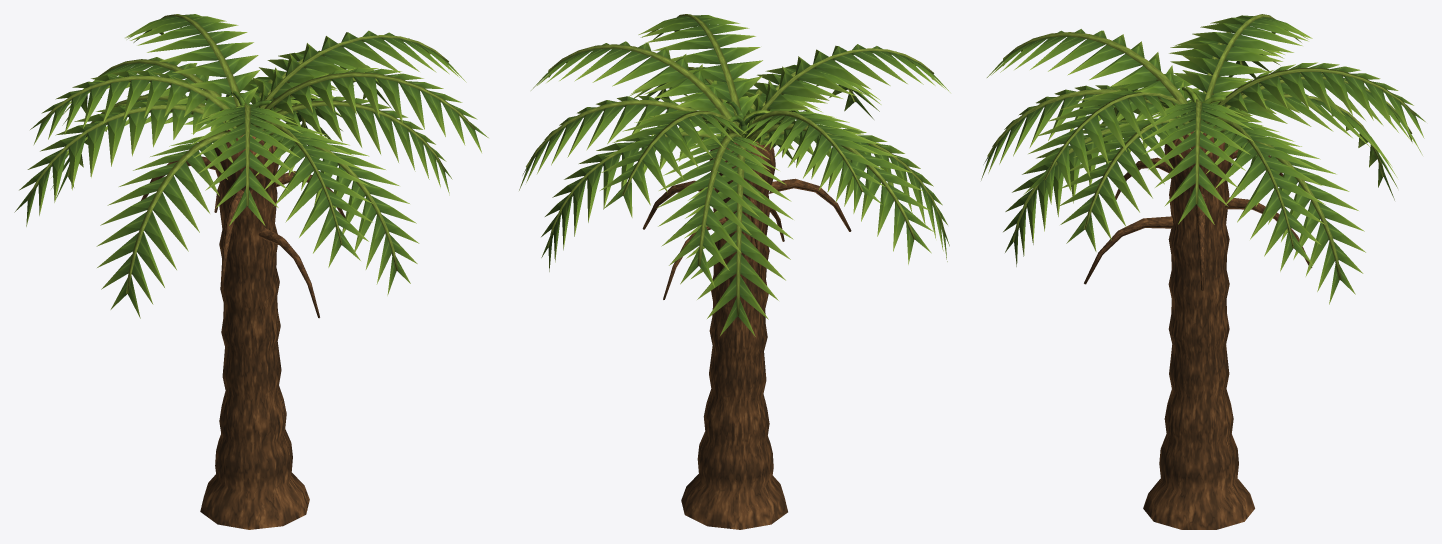
The model's file is fougere_arbre.glb.
3 renders of one model, left to right at view 1: azimuth 30°, elevation 25°; view 2: azimuth 150°, elevation 25°; view 3: azimuth 270°, elevation 25°, orthographic. The views are drawn at different scales.
Parts seen in each view (by area): view 1: fougere_arbre; view 2: fougere_arbre; view 3: fougere_arbre.
Boxes of the visible parts, bbox=[...] form: fougere_arbre: bbox=[14, 14, 488, 529]; fougere_arbre: bbox=[519, 14, 950, 529]; fougere_arbre: bbox=[981, 14, 1425, 529].
Size of the model in its own units: 3.54 by 3.62 by 3.29.
3 materials, 3 textured.
